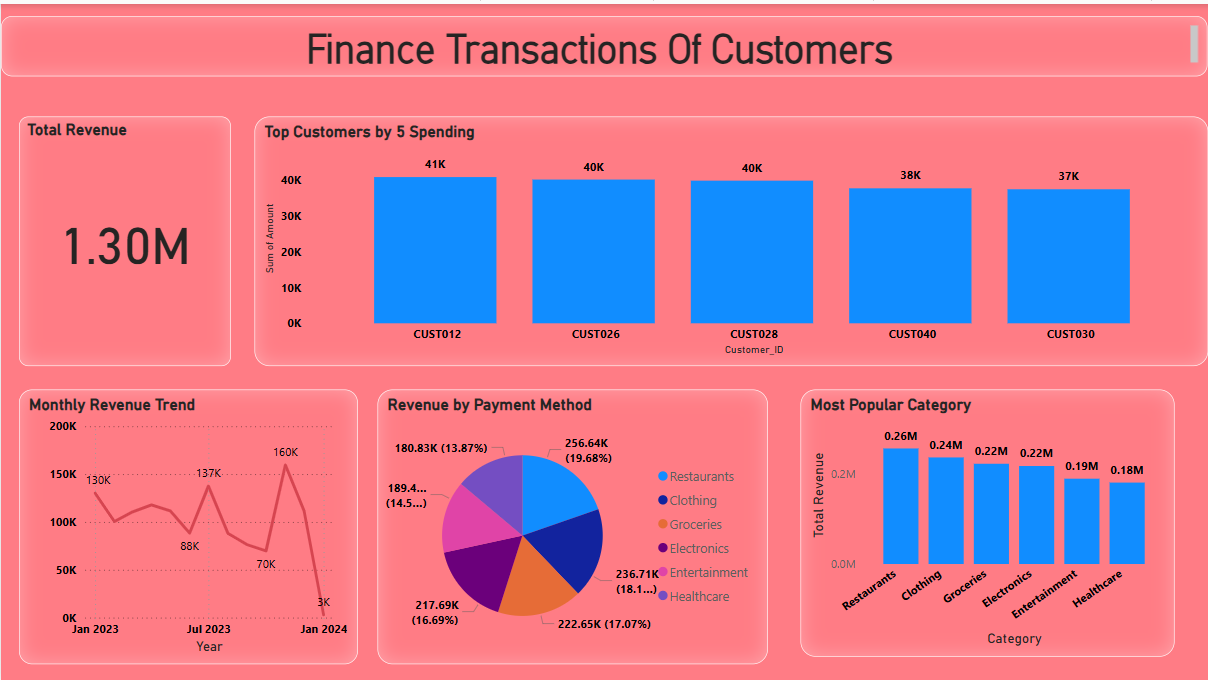

What the dashboard file says about the page in this screenshot:
{"tool":"powerbi","page":{"name":"Page 1","canvas":[1280,720],"ordinal":0},"visuals":[{"type":"card","title":"Total Revenue","fields":{"Values":["finance_transactionss.Total Revenue"]},"box":[18.9,119.1,224.9,264.6],"z":0},{"type":"lineChart","title":"Monthly Revenue Trend","fields":{"Y":["finance_transactionss.Monthly Revenue"],"Category":["finance_transactionss.Transaction_Date.Variation.Date Hierarchy.Year","finance_transactionss.Transaction_Date.Variation.Date Hierarchy.Quarter","finance_transactionss.Transaction_Date.Variation.Date Hierarchy.Month","finance_transactionss.Transaction_Date.Variation.Date Hierarchy.Day"]},"box":[18.9,408.2,359.1,291],"z":1000},{"type":"clusteredColumnChart","title":"Top Customers by  5 Spending ","fields":{"Category":["finance_transactionss.Customer_ID"],"Y":["Sum(finance_transactionss.Amount)"]},"box":[268.3,119.1,1011,264.6],"z":2000},{"type":"pieChart","title":"Revenue by Payment Method","fields":{"Y":["finance_transactionss.Total Revenue"],"Category":["finance_transactionss.Category"]},"box":[398.7,408.2,413.9,291],"z":3000},{"type":"columnChart","title":"Most Popular Category","fields":{"Y":["finance_transactionss.Total Revenue"],"Category":["finance_transactionss.Category"]},"box":[848.5,408.2,396.9,283.5],"z":4000},{"type":"textbox","box":[0,13.2,1279.4,64.3],"z":5000}]}

Visuals, with their boxes in screenshot pixels (x1, y1, x2, y2), scaled from the page's 1280x720 canvas onto the 1208x680 screenshot:
"Total Revenue" card: <bbox>18, 112, 230, 362</bbox>
"Monthly Revenue Trend" lineChart: <bbox>18, 386, 357, 660</bbox>
"Top Customers by  5 Spending " clusteredColumnChart: <bbox>253, 112, 1207, 362</bbox>
"Revenue by Payment Method" pieChart: <bbox>376, 386, 767, 660</bbox>
"Most Popular Category" columnChart: <bbox>801, 386, 1175, 653</bbox>
textbox: <bbox>0, 12, 1207, 73</bbox>
